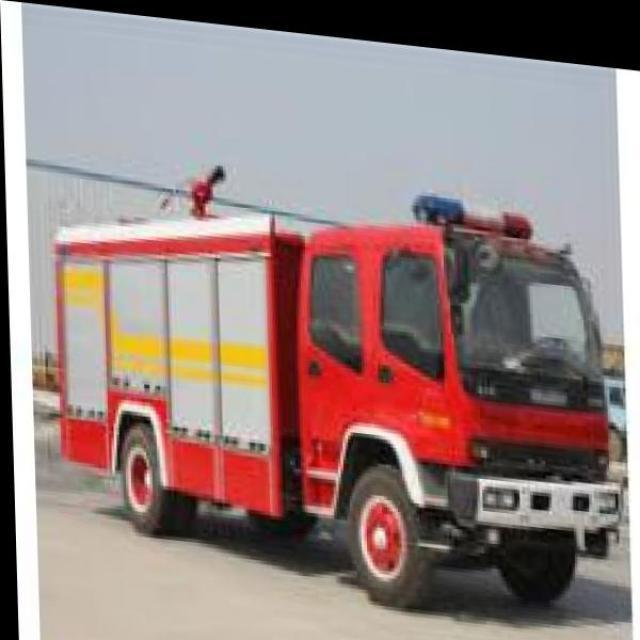emergency: (50, 163, 626, 609)
